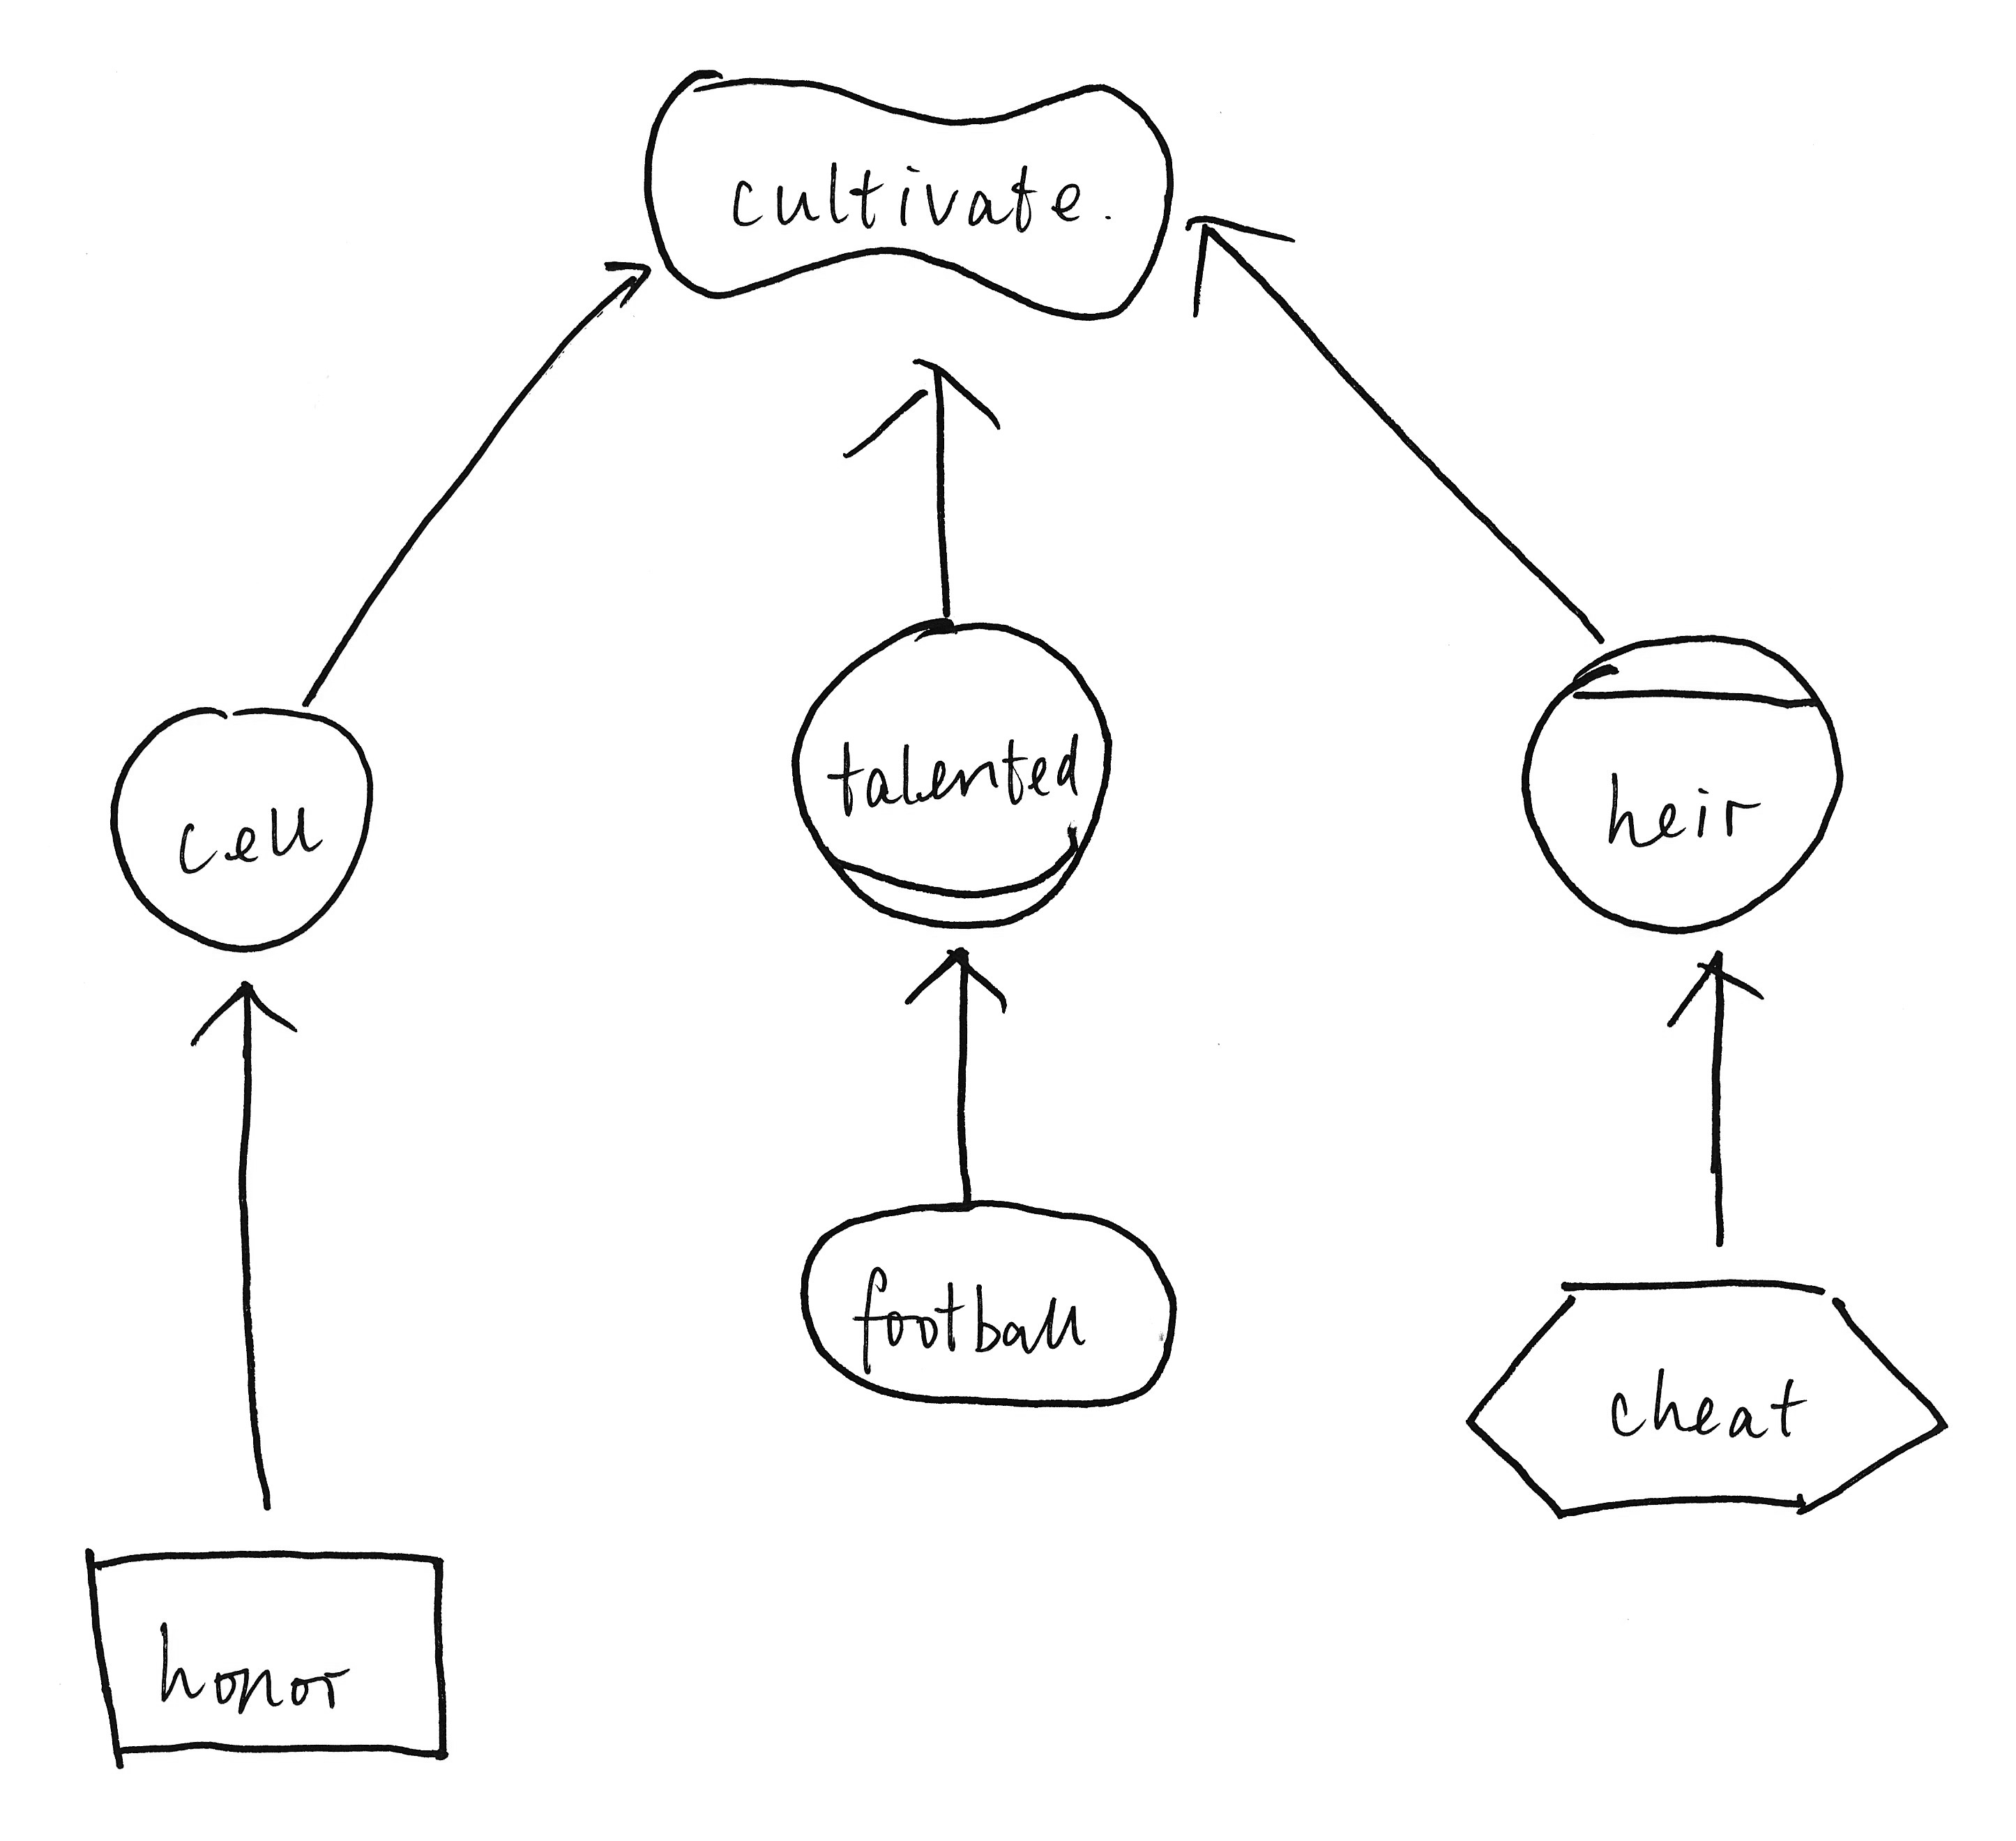actor: (98, 690, 390, 963)
agent: (1503, 618, 1858, 950)
arrow: (834, 343, 1020, 476), (1173, 207, 1308, 328), (176, 970, 313, 1070), (1654, 942, 1775, 1042), (887, 942, 1017, 1033), (583, 248, 660, 343)
goal: (790, 1188, 1194, 1423)
quality: (627, 42, 1189, 341)
resource: (65, 1528, 464, 1783)
role: (773, 599, 1131, 952)
task: (1451, 1258, 1969, 1534)
